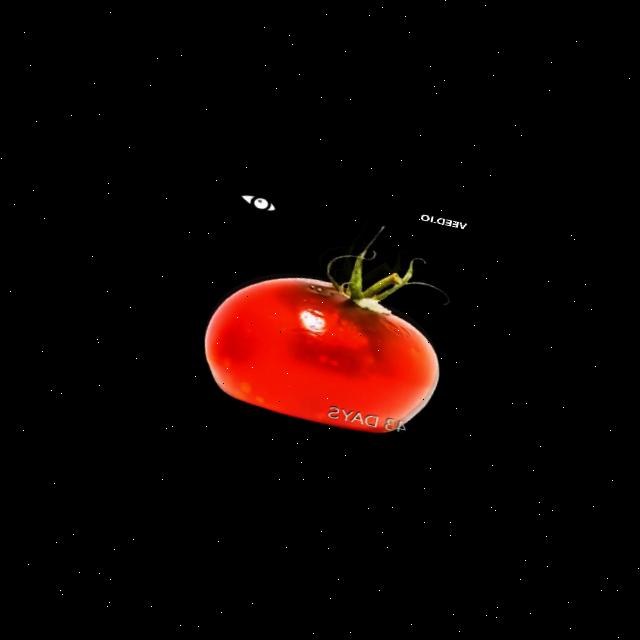tomato: (189, 240, 457, 450)
